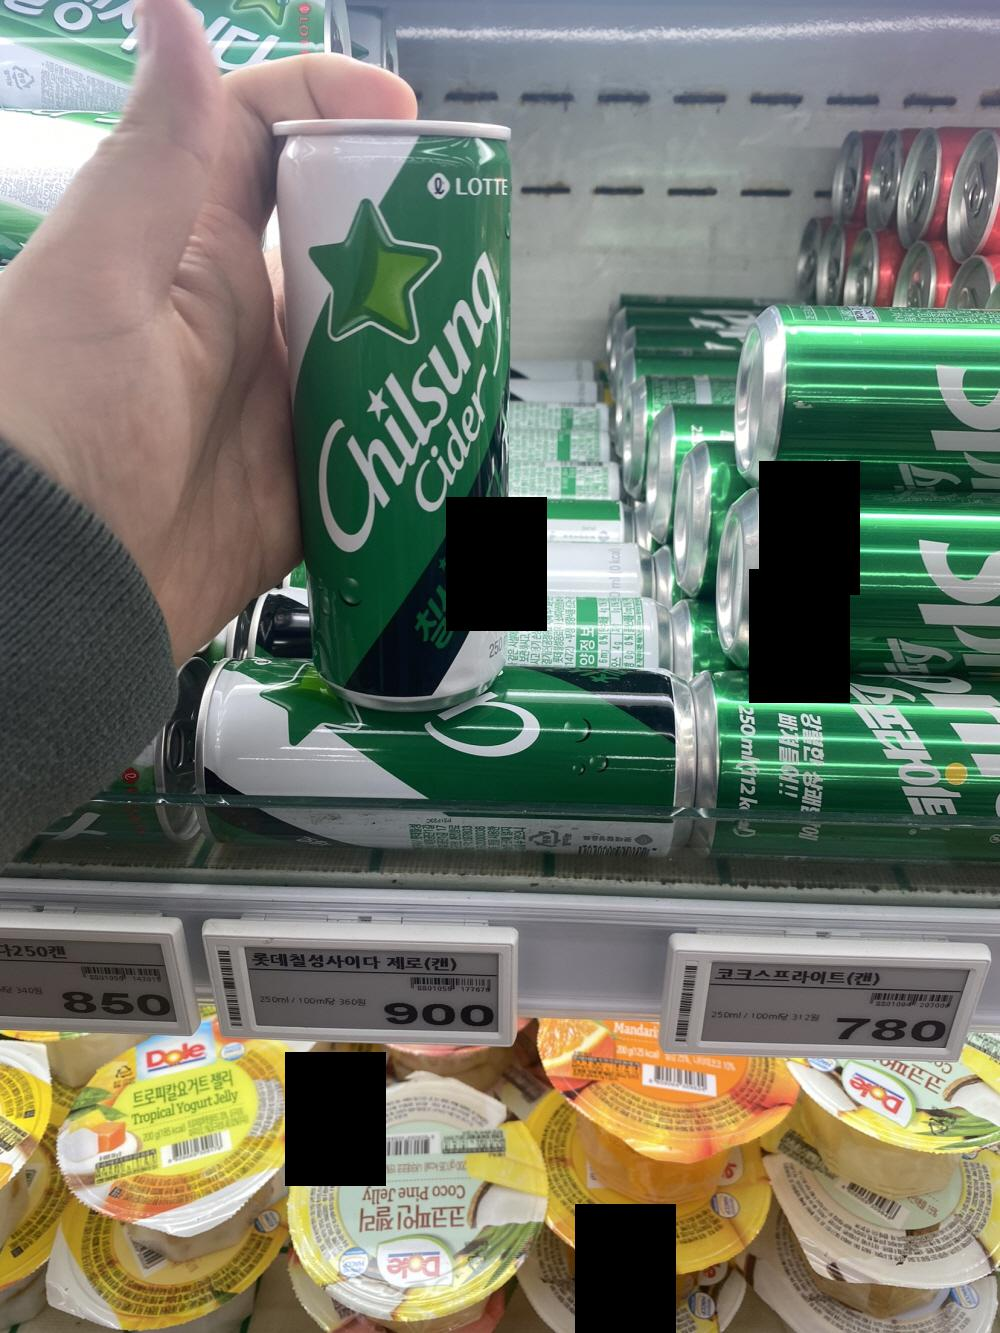chilsungcider_zero: (271, 114, 517, 718), (208, 680, 712, 840)
